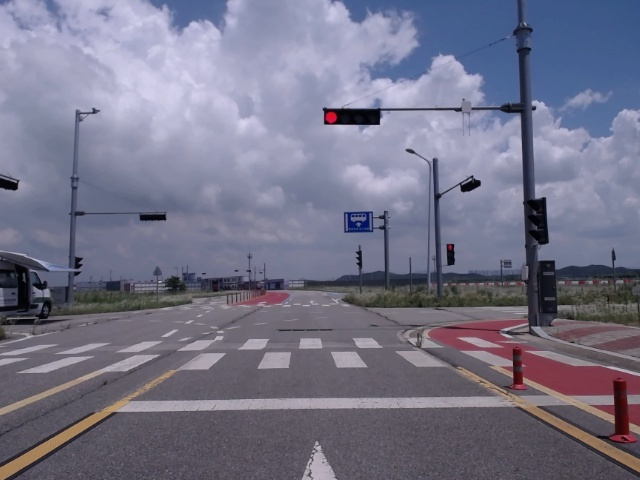red_4: (324, 111, 380, 125)
